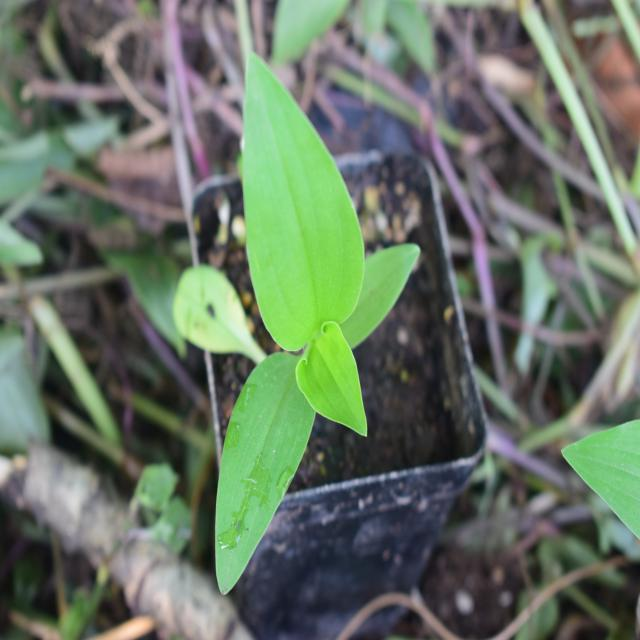Common Dayflower: (193, 42, 398, 572)
